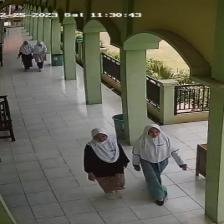HijabSyar-i: (135, 120, 187, 167), (89, 129, 129, 168), (89, 146, 120, 165)
